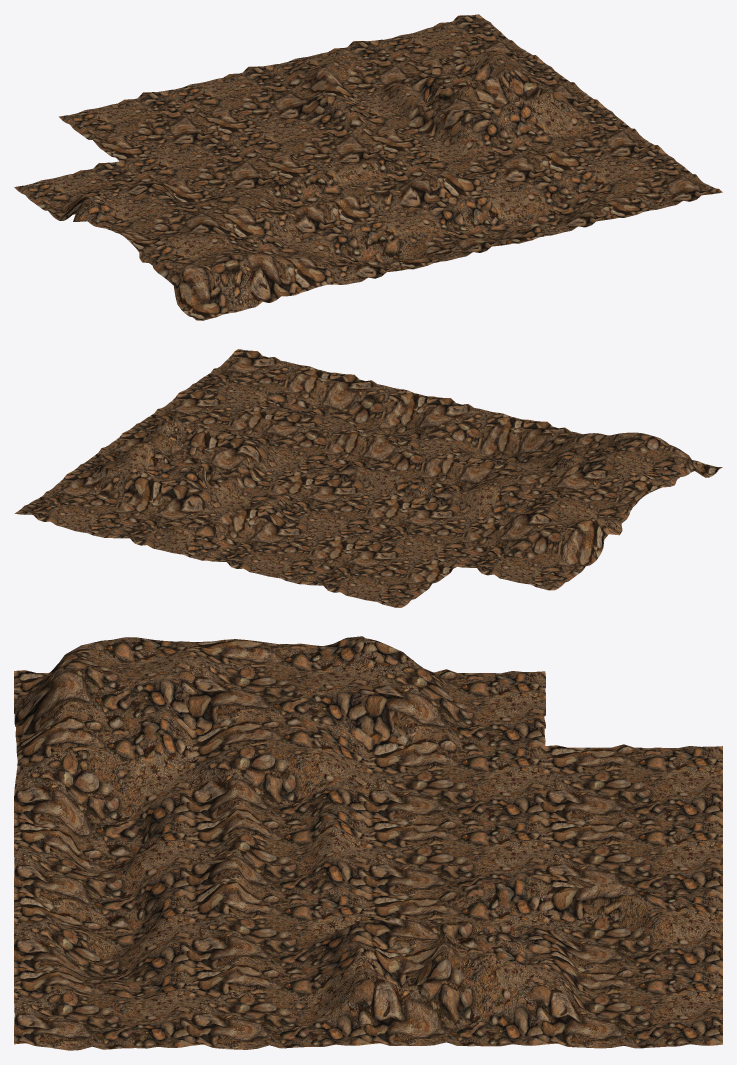
File: ground_rocks_terrain.dae
3 renders of one model, top to bottom at view 1: azimuth 30°, elevation 25°; view 2: azimuth 150°, elevation 25°; view 3: azimuth 270°, elevation 25°, orthographic. The views are drawn at different scales.
Visible parts, largest first — view 1: ground_rocks_terrain; view 2: ground_rocks_terrain; view 3: ground_rocks_terrain.
Boxes of the visible parts, left/top/right/bottom form: ground_rocks_terrain: left=14, top=14, right=722, bottom=320; ground_rocks_terrain: left=14, top=349, right=722, bottom=607; ground_rocks_terrain: left=14, top=636, right=722, bottom=1050.
Bounding box in the file's own units: 31.92 × 25.35 × 3.31.
1 material, 1 textured.
